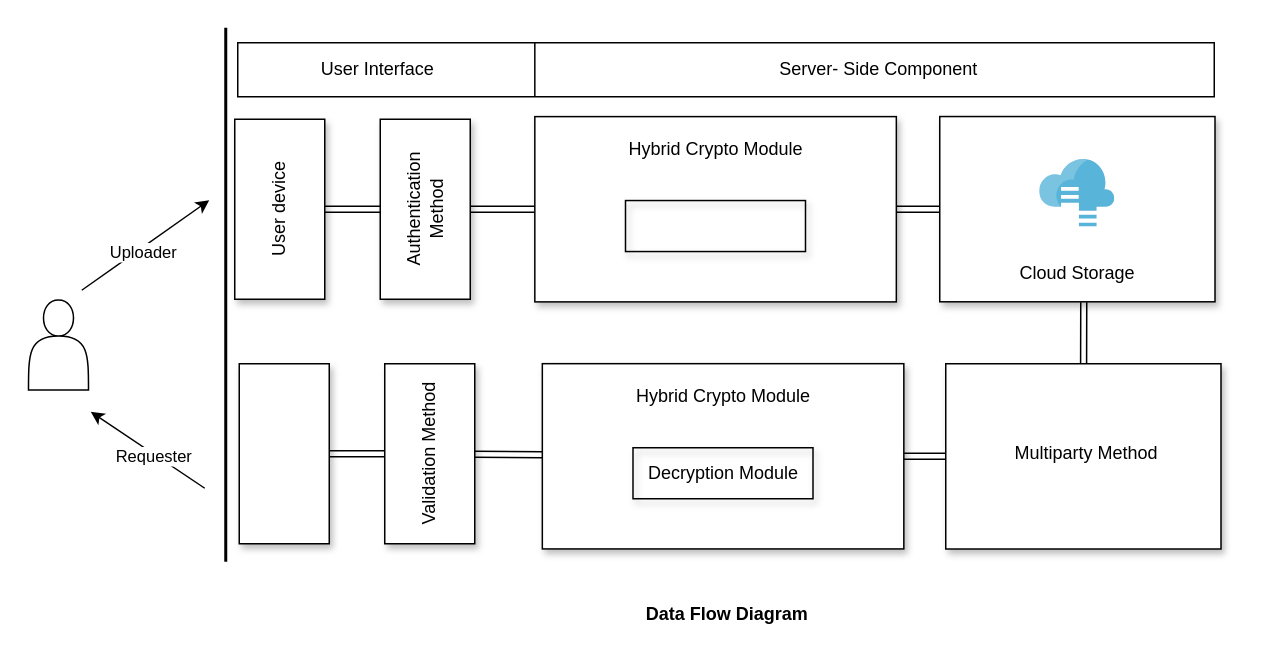
Image size: 1265x659. Some labels were removed from this diagram. The shapes that lost their labels are listed below. From the top down, each one's centre as x and y in pixels, then its label:
the point at 716,227: Encryption Module
the point at 57,344: User
the point at 285,455: Download File
